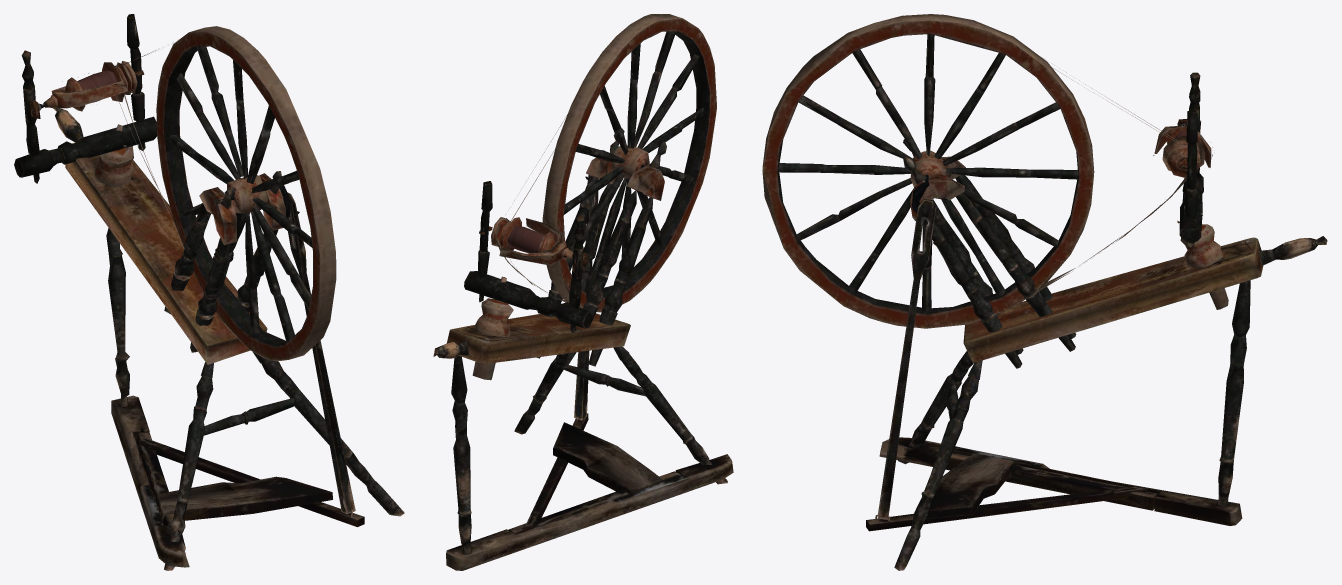
The model's file is spinning_wheel_01.glb.
The picture shows the model from 3 angles, left to right: view 1: azimuth 30°, elevation 25°; view 2: azimuth 150°, elevation 25°; view 3: azimuth 270°, elevation 25°; orthographic projection. The views are drawn at different scales.
Parts seen in each view (by area): view 1: spinning_wheel_01; view 2: spinning_wheel_01; view 3: spinning_wheel_01.
Part boxes in pixels (box(x1,y1,x2,y2)): spinning_wheel_01: box(14, 14, 404, 570); spinning_wheel_01: box(433, 14, 733, 570); spinning_wheel_01: box(762, 14, 1327, 570).
Size of the model in its own units: 0.489 by 0.9656 by 1.02.
1 material, 1 textured.
